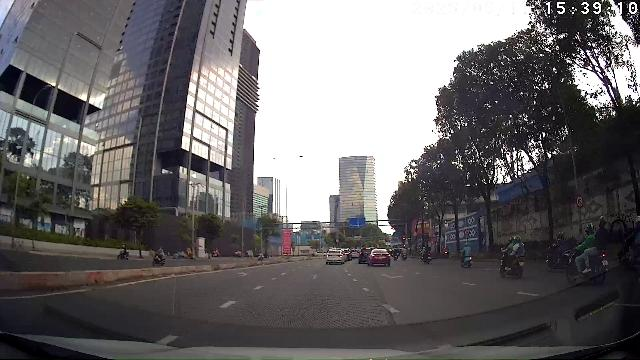103b-cam-oto-re-phai: (575, 195, 584, 208)
